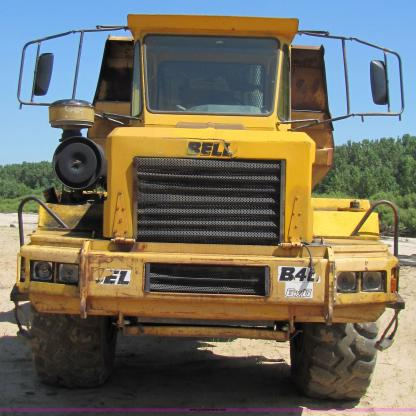dump_truck: (12, 9, 408, 399)
